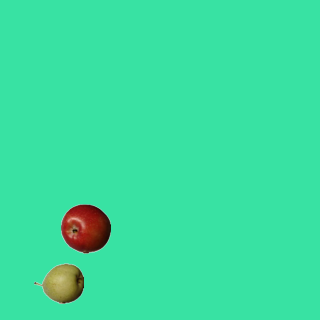Apple Braeburn: (60, 203, 110, 253)
Pear: (33, 258, 83, 308)
